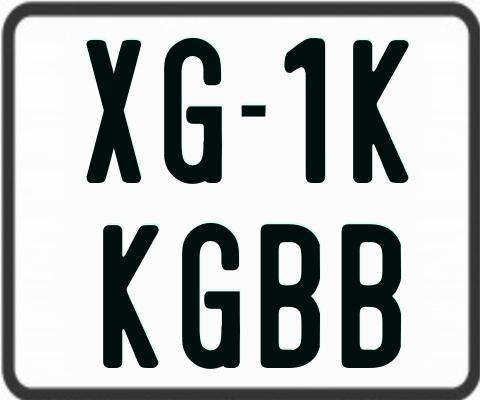1: (282, 38, 328, 184)
B: (341, 222, 406, 369), (259, 222, 323, 367)
G: (163, 38, 227, 190), (179, 222, 239, 368)
K: (353, 37, 414, 180), (103, 222, 159, 369)
X: (85, 39, 139, 184)
